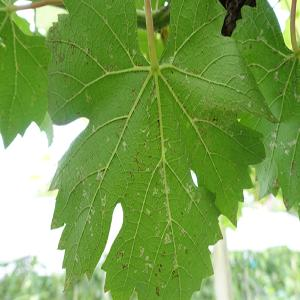Folha: (48, 0, 270, 300)
Fungo: (51, 24, 74, 64), (158, 162, 172, 200), (183, 178, 198, 209), (146, 78, 159, 105), (163, 199, 174, 224), (101, 194, 108, 217), (120, 139, 130, 154), (146, 205, 154, 223), (164, 232, 172, 244), (82, 189, 89, 202), (138, 245, 144, 257), (96, 170, 102, 181), (171, 268, 175, 280), (155, 285, 159, 295), (157, 264, 162, 272), (212, 116, 218, 122), (121, 262, 127, 268), (161, 250, 165, 258), (184, 248, 189, 254)
